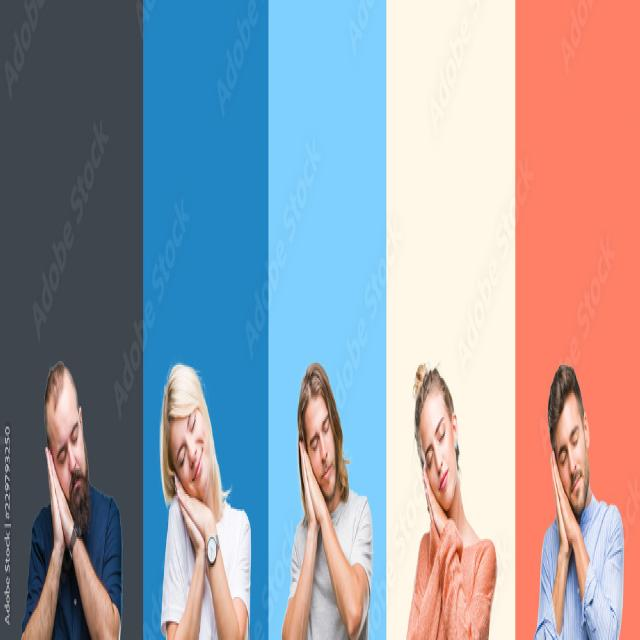Sleepy: (419, 404, 455, 510), (554, 404, 590, 506), (173, 409, 210, 505), (300, 400, 337, 495), (50, 408, 84, 496)
